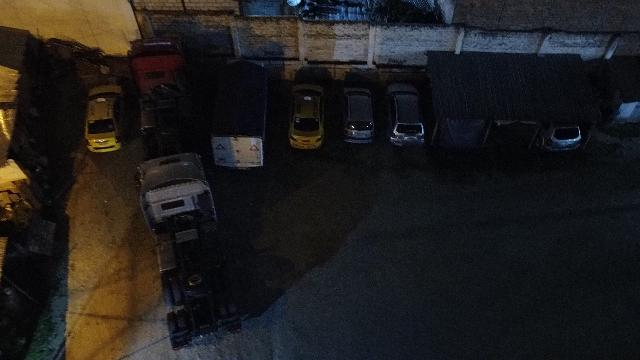Vehiculo: (84, 84, 126, 154), (386, 83, 424, 147), (288, 84, 324, 150), (343, 88, 375, 144), (548, 125, 582, 152)
